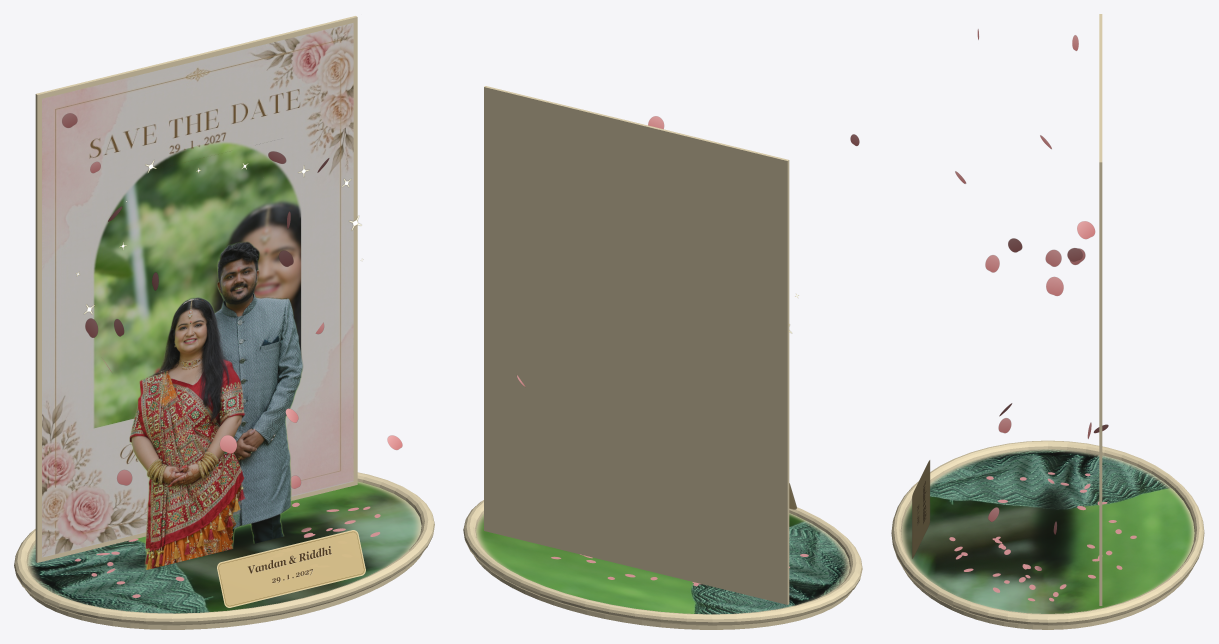
Rendered from vandan_riddhi_stage_v2.glb.
The picture shows the model from 3 angles, left to right: view 1: azimuth 30°, elevation 25°; view 2: azimuth 150°, elevation 25°; view 3: azimuth 270°, elevation 25°; orthographic projection. The views are drawn at different scales.
Visible parts, largest first — view 1: Card_Backdrop, Standing_Couple, Ground_Lawn, Arch_Gold_Backing, Gold_Pedestal_Rim, Front_Gold_Plaque, Pedestal_Gold_Base; view 2: Arch_Gold_Backing, Ground_Lawn, Gold_Pedestal_Rim, Pedestal_Gold_Base; view 3: Ground_Lawn, Gold_Pedestal_Rim, Pedestal_Gold_Base, Arch_Gold_Backing, Front_Gold_Plaque.
Part boxes in pixels (x1=…): Card_Backdrop: x1=42, y1=23, x2=353, y2=557; Standing_Couple: x1=129, y1=241, x2=302, y2=569; Ground_Lawn: x1=28, y1=482, x2=420, y2=613; Arch_Gold_Backing: x1=35, y1=16, x2=357, y2=562; Gold_Pedestal_Rim: x1=14, y1=472, x2=434, y2=625; Front_Gold_Plaque: x1=217, y1=530, x2=365, y2=607; Pedestal_Gold_Base: x1=25, y1=481, x2=423, y2=629; Arch_Gold_Backing: x1=484, y1=86, x2=789, y2=604; Ground_Lawn: x1=476, y1=513, x2=849, y2=614; Gold_Pedestal_Rim: x1=463, y1=500, x2=862, y2=625; Pedestal_Gold_Base: x1=474, y1=513, x2=851, y2=629; Ground_Lawn: x1=902, y1=449, x2=1194, y2=613; Gold_Pedestal_Rim: x1=891, y1=440, x2=1204, y2=625; Pedestal_Gold_Base: x1=901, y1=449, x2=1194, y2=629; Arch_Gold_Backing: x1=1099, y1=14, x2=1102, y2=605; Front_Gold_Plaque: x1=912, y1=460, x2=930, y2=558.
Size of the model in its own units: 1.34 by 1.76 by 0.9914.
Materials: 7 (6 with a texture image).
